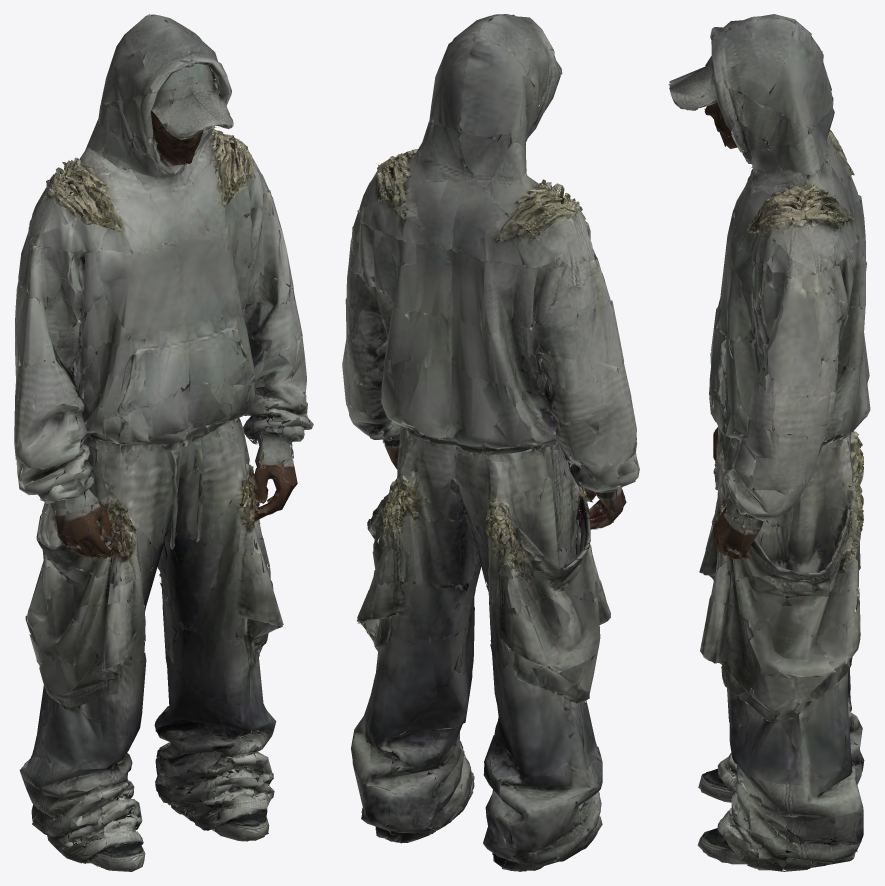
File: character.glb
The picture shows the model from 3 angles, left to right: view 1: azimuth 30°, elevation 25°; view 2: azimuth 150°, elevation 25°; view 3: azimuth 270°, elevation 25°; orthographic projection.
Visible parts, largest first — view 1: Mesh_0; view 2: Mesh_0; view 3: Mesh_0.
Boxes of the visible parts, x1,y1,x2,y2 form: Mesh_0: (14, 14, 313, 871); Mesh_0: (342, 14, 639, 871); Mesh_0: (668, 14, 870, 871).
Bounding box in the file's own units: 0.7116 × 1.9 × 0.43.
Materials: 1 (1 with a texture image).
